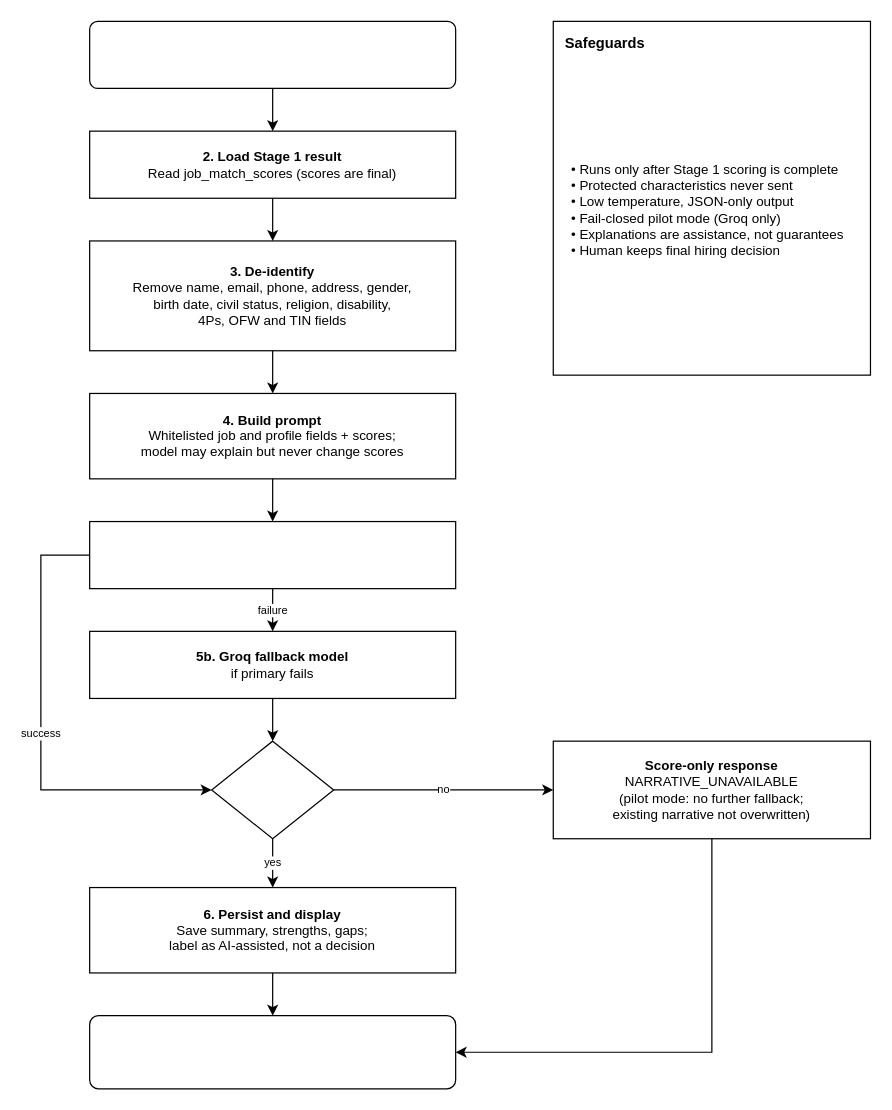
Some shapes in this 892 by 1110 pixel diagram are drawn without their labels. Each missing label, with the centre of its shape:
1. Request Reviewer opens a candidate's detail view: (x=272, y=54)
5a. Groq primary model JSON response format: (x=272, y=554)
Human decision Authorized reviewer decides; override allowed: (x=272, y=1051)
Narrative returned?: (x=272, y=789)
